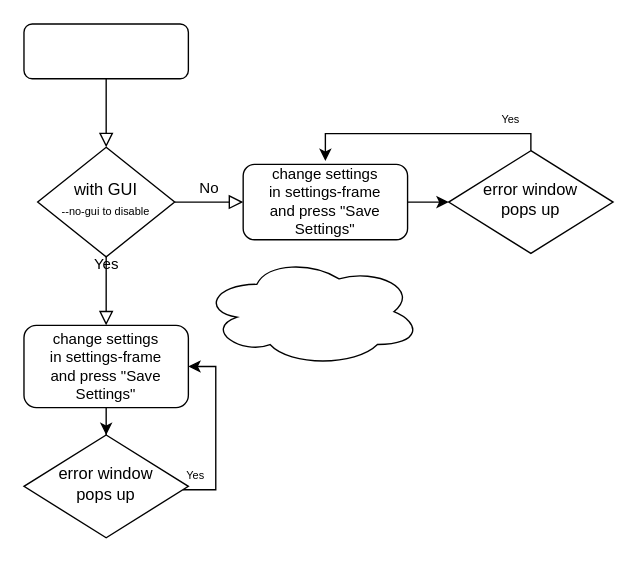
Image size: 637x562. Some labels were removed from this diagram. The centre of each missing label's shape, as x and y in pixels:
run main.py: the point at 105,51
settings sent to libreVNA and validated when "Save Settings" clicked: the point at 311,311
